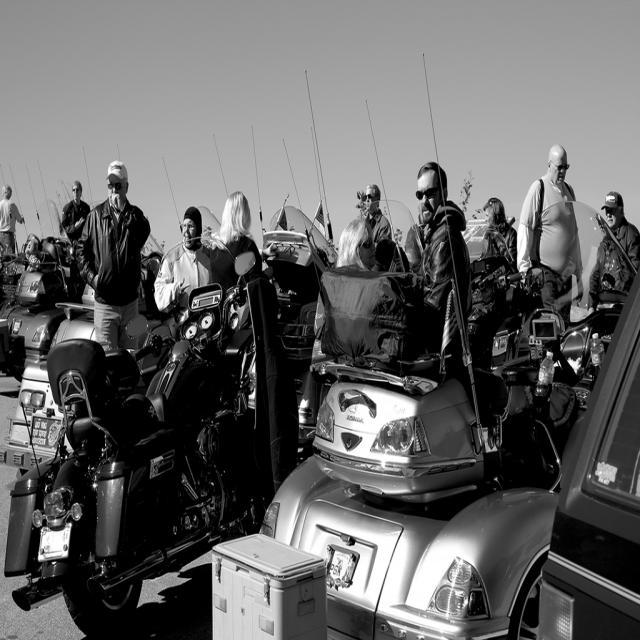bus: (32, 250, 254, 638)
